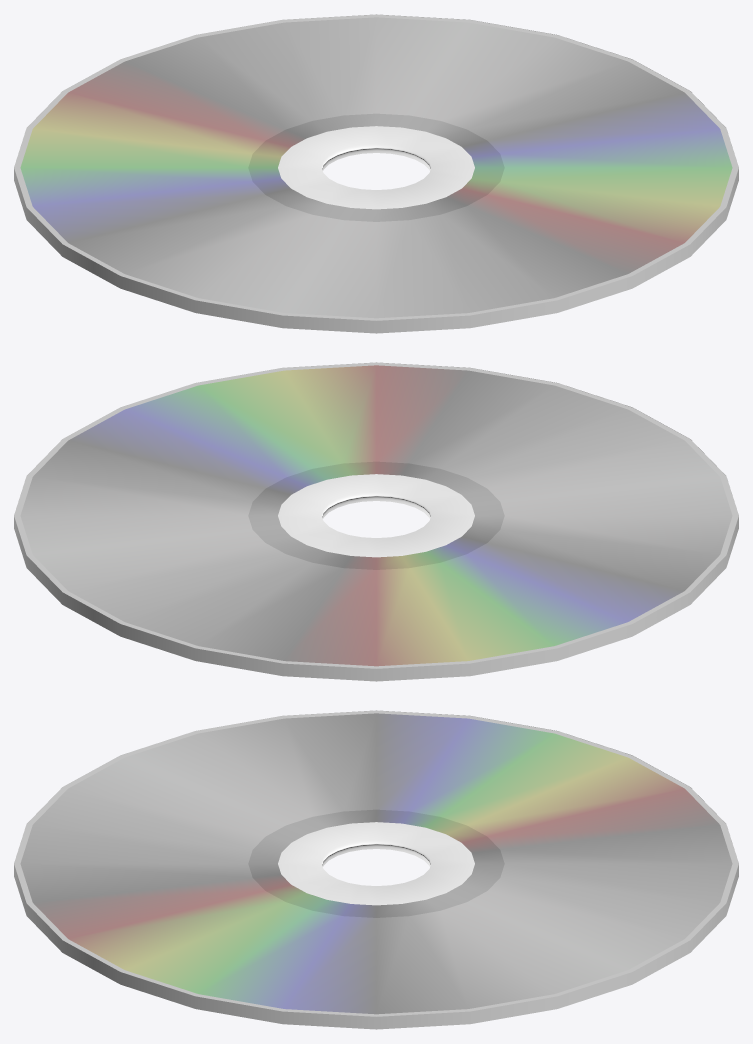
Rendered from human-electronics-compact-disc_v1.glb.
The picture shows the model from 3 angles, top to bottom: view 1: azimuth 30°, elevation 25°; view 2: azimuth 150°, elevation 25°; view 3: azimuth 270°, elevation 25°; orthographic projection.
Visible parts, largest first — view 1: Compact Disc; view 2: Compact Disc; view 3: Compact Disc.
Part boxes in pixels (x1=…): Compact Disc: x1=14, y1=14, x2=738, y2=333; Compact Disc: x1=14, y1=362, x2=738, y2=681; Compact Disc: x1=14, y1=710, x2=738, y2=1029.
Size of the model in its own units: 0.12 by 0.00246 by 0.12.
